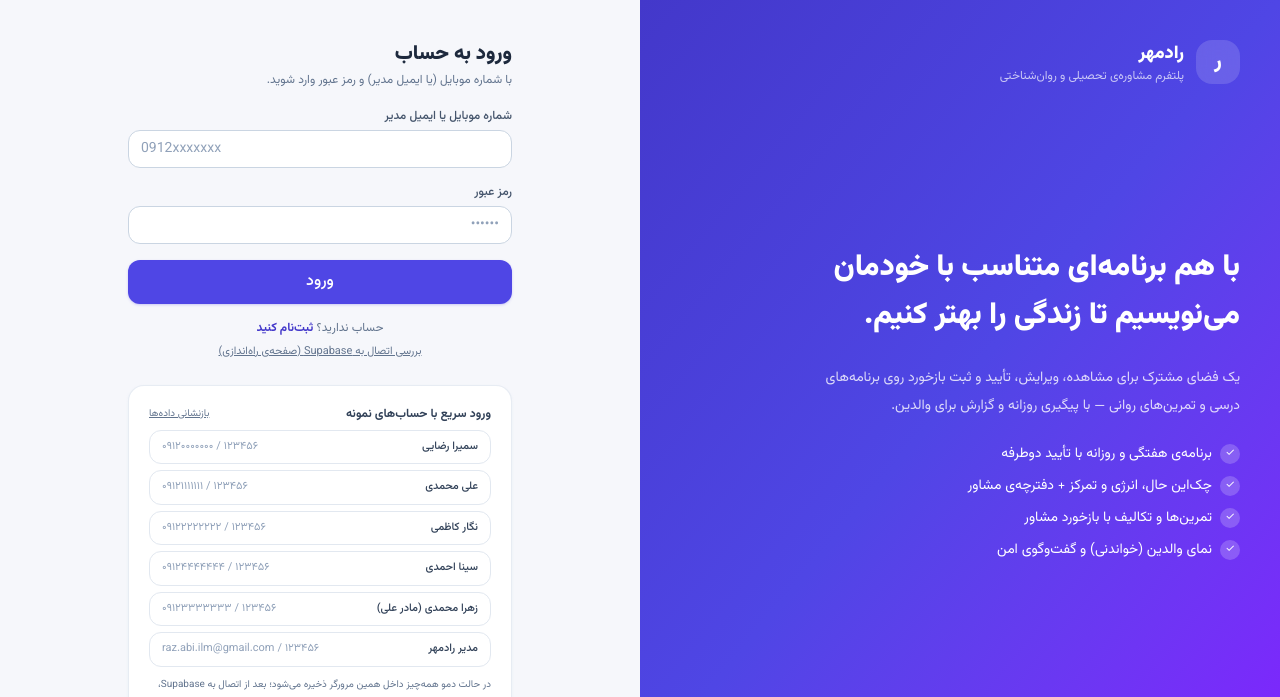
Test: مدیر اصلی رادمهر › ورود مدیر با ایمیل و رمز از صفحه‌ی ورود کار می‌کند
expect the password field labelled "رمز عبور" is shown: met, box [128,206,512,244]
Type "raz.abi.ilm@gmail.com" into the field with placeholder "0912xxxxxxx" at (320, 149), box [128,130,512,168]
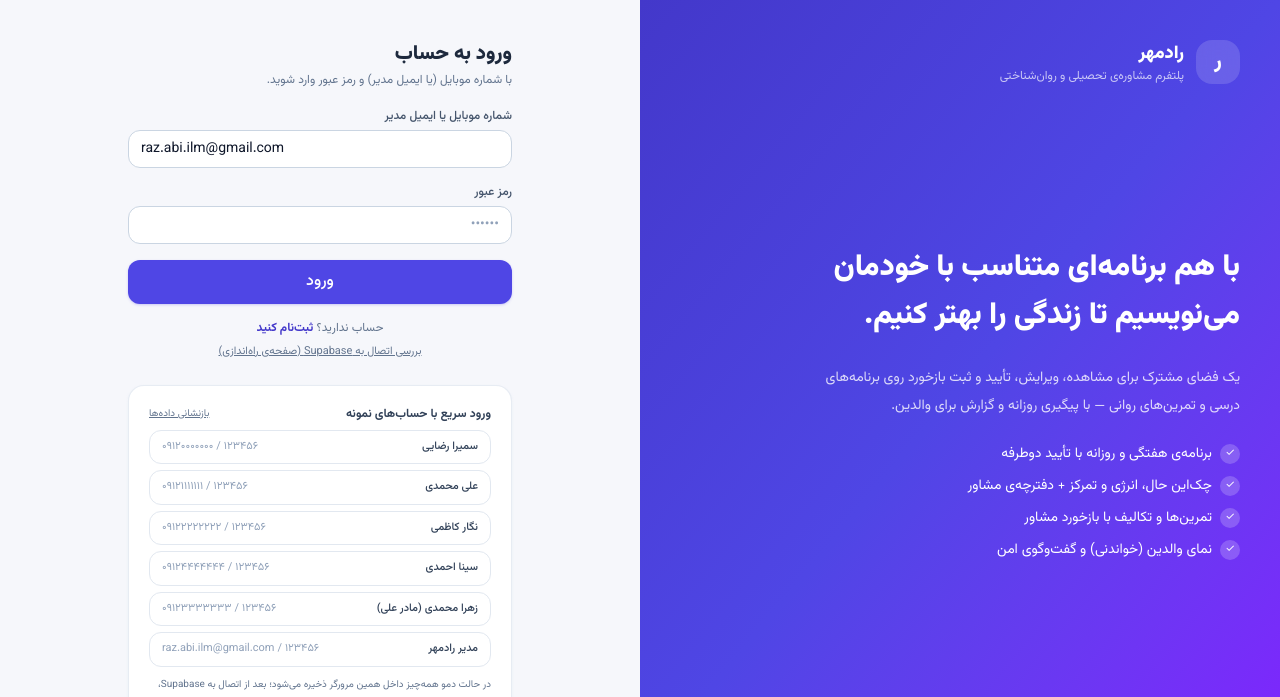
Type "123456" into the password field labelled "رمز عبور" at (320, 225), box [128,206,512,244]
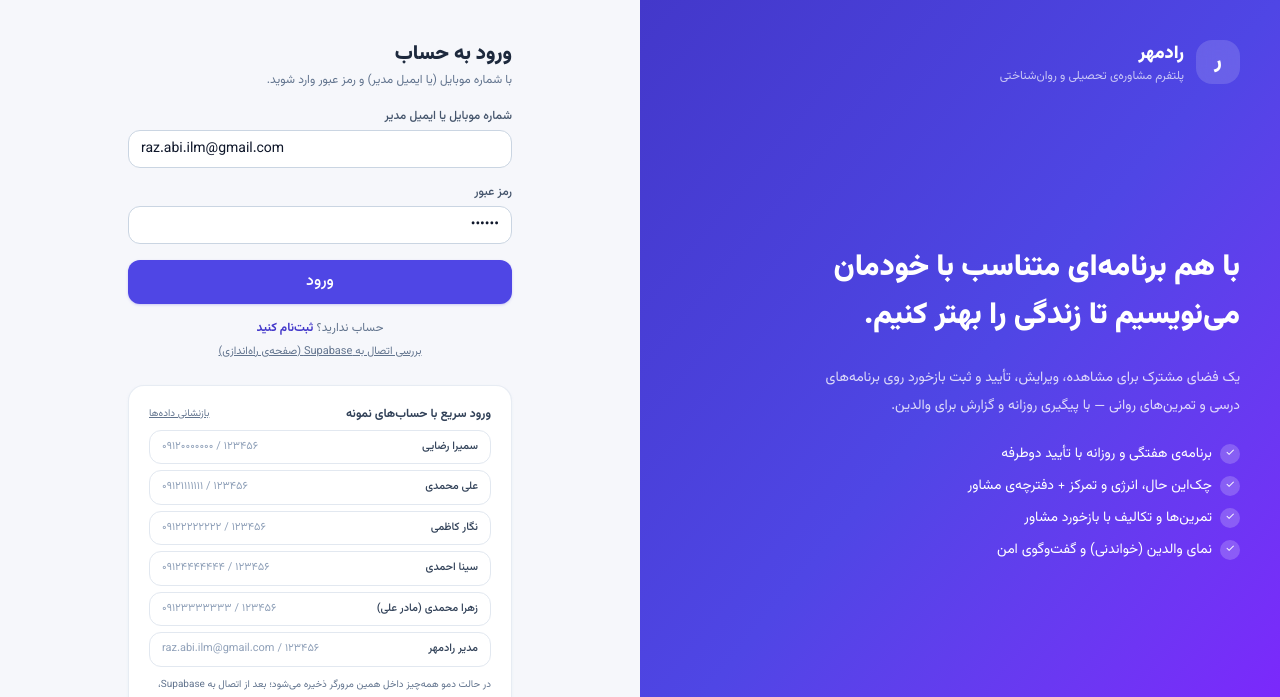
Click the button "ورود" at (320, 282), box [128,260,512,304]
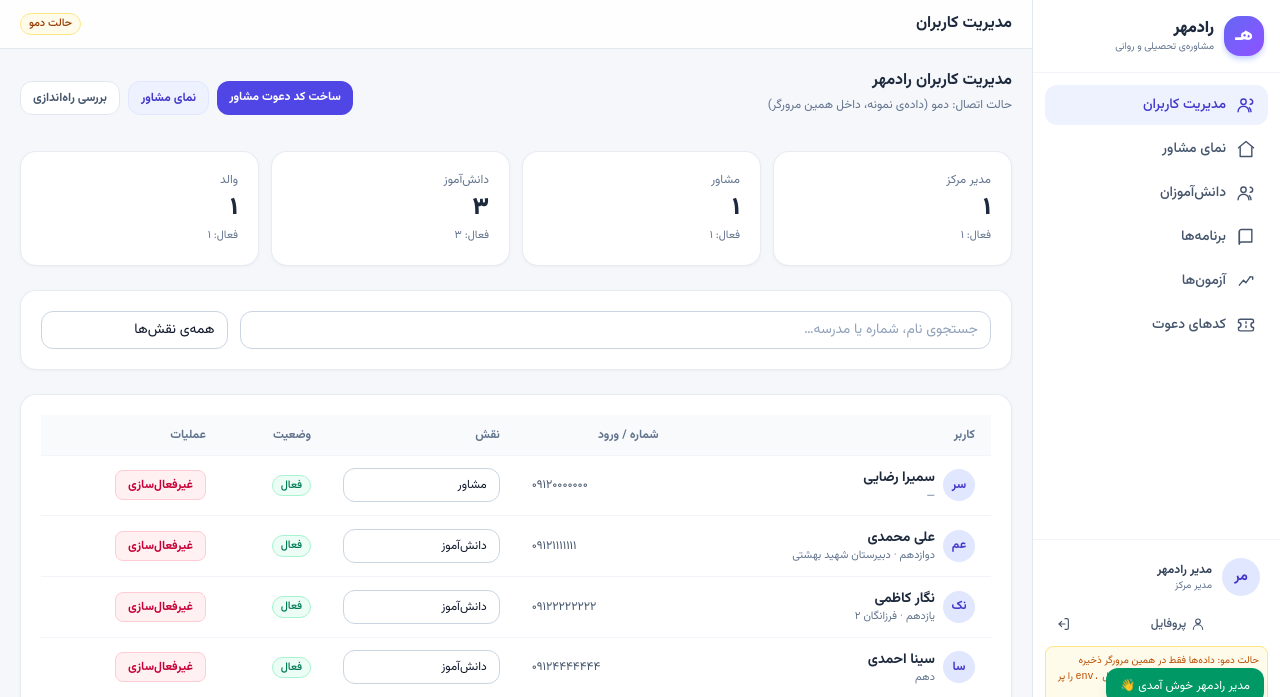
expect the heading "مدیریت کاربران رادمهر" is shown: met, box [872,68,1012,93]
